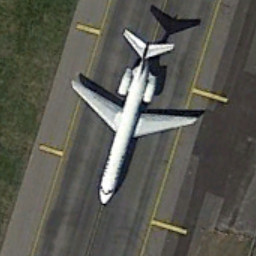Airplane: (68, 22, 203, 217)
